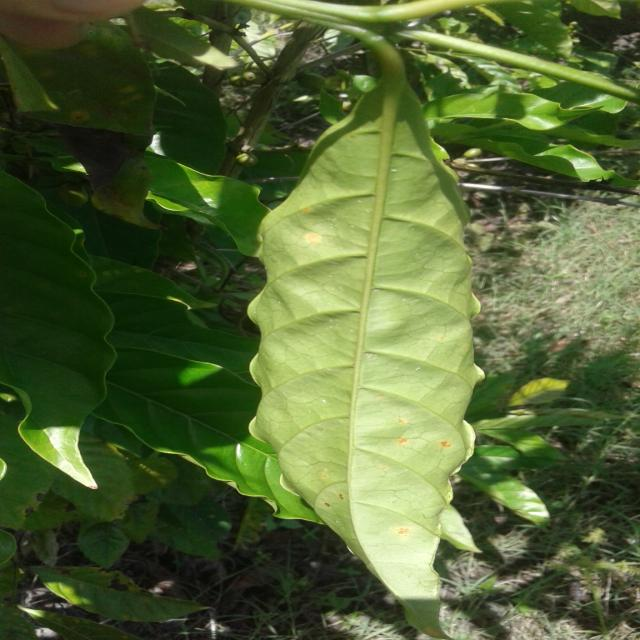Enfermedad-Roya: (248, 86, 482, 640)
